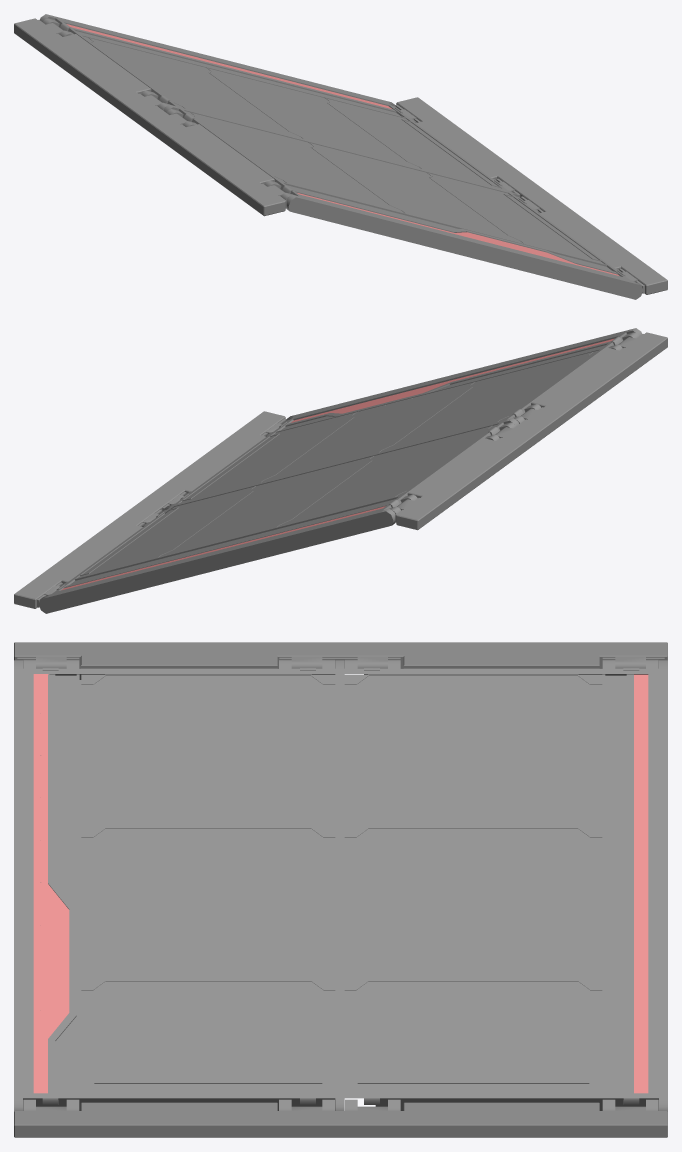
Rendered from S_Envi_Umeda_Slope_01b.gltf.
The picture shows the model from 3 angles, top to bottom: view 1: azimuth 30°, elevation 25°; view 2: azimuth 150°, elevation 25°; view 3: azimuth 270°, elevation 25°; orthographic projection. The views are drawn at different scales.
Parts seen in each view (by area): view 1: S_Envi_Umeda_Slope_01b; view 2: S_Envi_Umeda_Slope_01b; view 3: S_Envi_Umeda_Slope_01b.
Boxes of the visible parts, x1,y1,x2,y2 form: S_Envi_Umeda_Slope_01b: [14, 14, 667, 299]; S_Envi_Umeda_Slope_01b: [14, 328, 667, 613]; S_Envi_Umeda_Slope_01b: [14, 642, 667, 1137].
Bounding box in the file's own units: 7.75 × 3.4 × 8.31.
